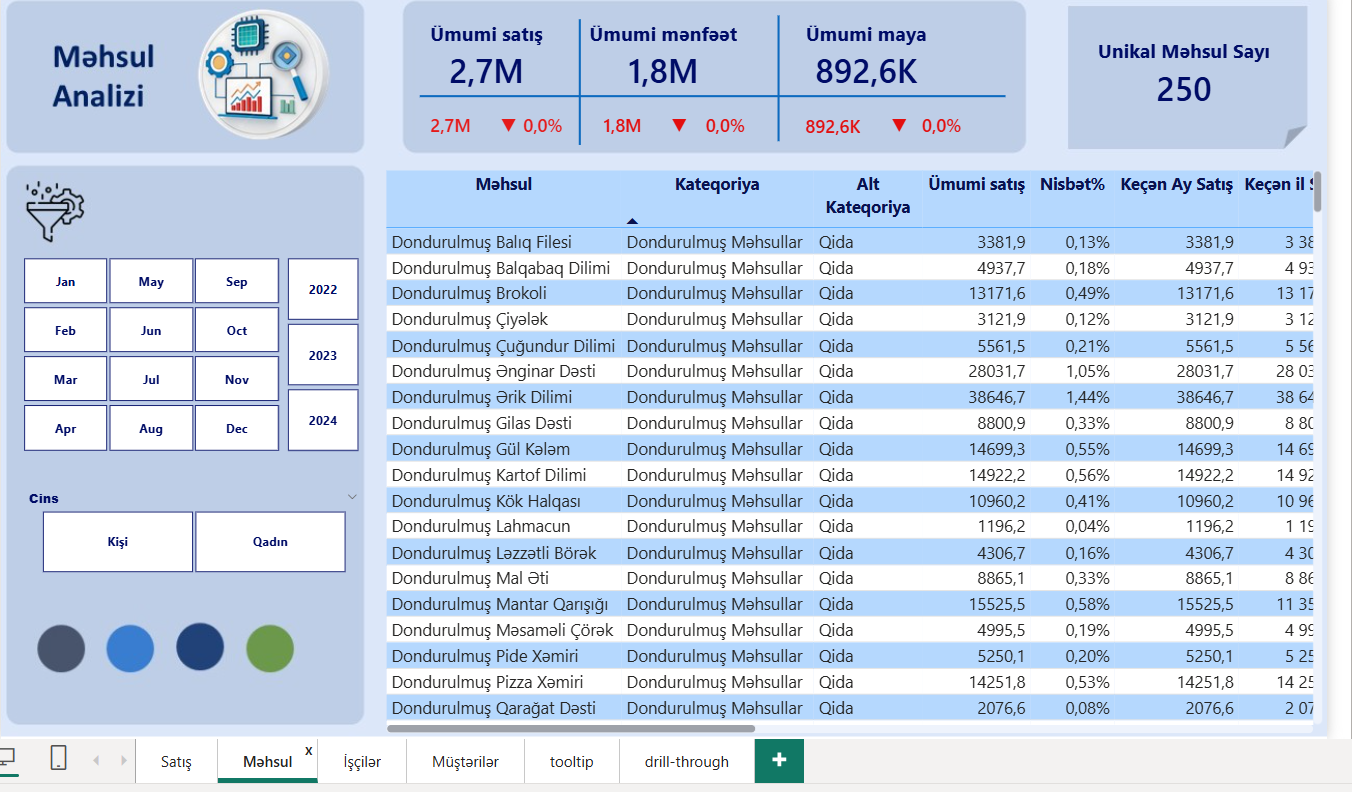

The page's visual inventory and layout, read from the dashboard file:
{"tool":"powerbi","page":{"name":"Məhsul","canvas":[1280,720],"ordinal":1},"visuals":[{"type":"slicer","fields":{"Values":["Tarix.Ay"]},"box":[0,252,288,193.3],"z":0},{"type":"slicer","fields":{"Values":["Tarix.Il"]},"box":[254.7,252,110.7,193.3],"z":1000},{"type":"slicer","fields":{"Values":["Mağaza İşçiləri.Cins"]},"box":[18.7,476,334.7,86.7],"z":2000},{"type":"cardVisual","fields":{"Data":["Dax.Ümumi satış"]},"box":[384,14.7,170.7,93.3],"z":3000},{"type":"cardVisual","fields":{"Data":["Dax.Ümumi mənfəət"]},"box":[537.3,14.7,205.3,93.3],"z":4000},{"type":"cardVisual","fields":{"Data":["Dax.Ümumi satış MoM %"]},"box":[490.7,106.7,64,40],"z":5000},{"type":"cardVisual","fields":{"Data":["Dax.Ümumi mənfəət MoM%"]},"box":[654.7,106.7,88,40],"z":6000},{"type":"cardVisual","fields":{"Data":["Dax.Keçən Ay Satış"]},"box":[399.3,105,70,41],"z":7000},{"type":"cardVisual","fields":{"Data":["Dax.menfeet ikon"]},"box":[622.7,106.7,64,40],"z":8000},{"type":"cardVisual","fields":{"Data":["Dax.Keçən Ay Mənfəət"]},"box":[561.3,106.7,78.7,40],"z":9000},{"type":"cardVisual","fields":{"Data":["Dax.Ümumi maya"]},"box":[742.7,14.7,184,93.3],"z":10000},{"type":"cardVisual","fields":{"Data":["Dax.Ümumi maya MoM%"]},"box":[876,106.7,64,40],"z":11000},{"type":"cardVisual","fields":{"Data":["Dax.Maya ikon"]},"box":[834.7,106.7,64,40],"z":12000},{"type":"cardVisual","fields":{"Data":["Dax.Keçən maya"]},"box":[770.7,101.3,64,50.7],"z":13000},{"type":"cardVisual","fields":{"Data":["Dax.Satis ikon"]},"box":[469.3,106.7,41.3,40],"z":14000},{"type":"shape","box":[404,93.3,565.3,13.3],"z":15000},{"type":"shape","box":[494.7,25.3,128,121.3],"z":16000},{"type":"shape","box":[686.7,21.3,128,121.3],"z":17000},{"type":"cardVisual","fields":{"Data":["Dax.Unikal Məhsul Sayı"]},"box":[1028,6.7,228,140],"z":18000},{"type":"tableEx","fields":{"Values":["Məhsullar.Məhsul","Kateqoriyalar.Kateqoriya","Alt Kateqoriyalar.Alt Kateqoriya","Dax.Ümumi satış","Dax.%","Dax.Keçən Ay Satış","Dax.Keçən il Satış","Dax.Ümumi miqdar","Dax.Ümumi mənfəət","Dax.Keçən Ay Mənfəət","Dax.Keçən il Mənfəət","Dax.Ümumi maya"]},"box":[365.3,166.7,914.7,553.3],"z":21000},{"type":"actionButton","box":[18.7,598.7,65.3,62.7],"z":22000},{"type":"actionButton","box":[93.3,598.7,65.3,62.7],"z":23000},{"type":"actionButton","box":[158.7,597.3,65.3,62.7],"z":24000},{"type":"actionButton","box":[224,600,65.3,62.7],"z":25000}]}

Visuals, with their boxes on the page's 1280x720 design canvas (x1, y1, x2, y2). These are canvas units, not pixel positions in the 1352x792 screenshot, which may show the page scaled, cropped or inside an application window:
slicer - Tarix.Ay: <box>0,252,288,445</box>
slicer - Tarix.Il: <box>255,252,365,445</box>
slicer - Mağaza İşçiləri.Cins: <box>19,476,353,563</box>
cardVisual - Dax.Ümumi satış: <box>384,15,555,108</box>
cardVisual - Dax.Ümumi mənfəət: <box>537,15,743,108</box>
cardVisual - Dax.Ümumi satış MoM %: <box>491,107,555,147</box>
cardVisual - Dax.Ümumi mənfəət MoM%: <box>655,107,743,147</box>
cardVisual - Dax.Keçən Ay Satış: <box>399,105,469,146</box>
cardVisual - Dax.menfeet ikon: <box>623,107,687,147</box>
cardVisual - Dax.Keçən Ay Mənfəət: <box>561,107,640,147</box>
cardVisual - Dax.Ümumi maya: <box>743,15,927,108</box>
cardVisual - Dax.Ümumi maya MoM%: <box>876,107,940,147</box>
cardVisual - Dax.Maya ikon: <box>835,107,899,147</box>
cardVisual - Dax.Keçən maya: <box>771,101,835,152</box>
cardVisual - Dax.Satis ikon: <box>469,107,511,147</box>
shape: <box>404,93,969,107</box>
shape: <box>495,25,623,147</box>
shape: <box>687,21,815,143</box>
cardVisual - Dax.Unikal Məhsul Sayı: <box>1028,7,1256,147</box>
tableEx - Məhsullar.Məhsul x Kateqoriyalar.Kateqoriya: <box>365,167,1280,720</box>
actionButton: <box>19,599,84,661</box>
actionButton: <box>93,599,159,661</box>
actionButton: <box>159,597,224,660</box>
actionButton: <box>224,600,289,663</box>
